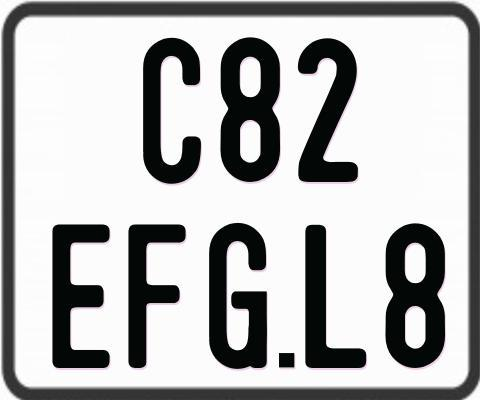2: (298, 37, 359, 185)
8: (383, 223, 449, 369), (217, 36, 281, 184)
C: (143, 36, 204, 183)
E: (52, 223, 115, 372)
F: (128, 221, 186, 366)
G: (209, 221, 267, 368)
L: (304, 224, 370, 367)
